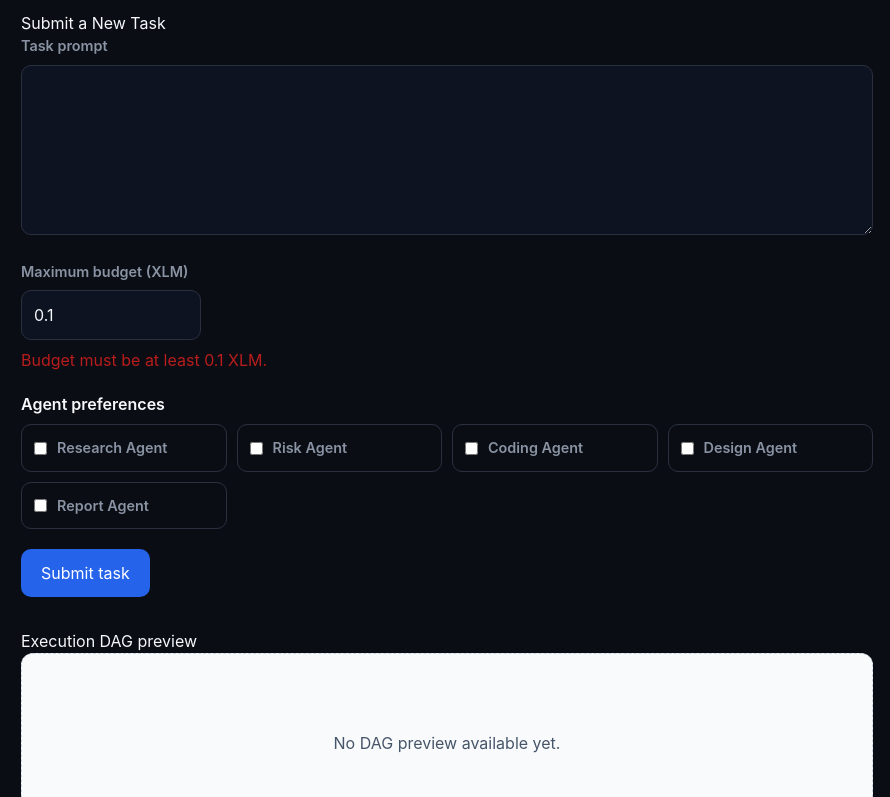
TaskSubmissionForm › shows a validation error when maxBudgetXLM is below 0.1
Type "Build a report" into the text box labelled "Task prompt" at [447, 150], box x1=21 y1=65 x2=873 y2=235
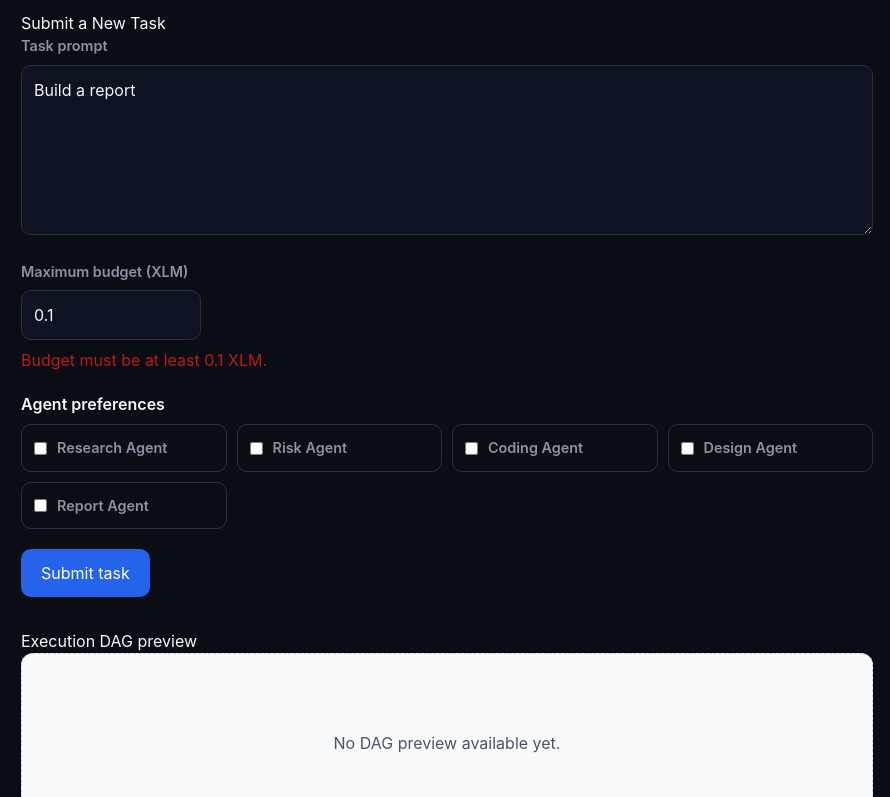
Replace the text in the number field labelled "Maximum budget (XLM)" with "0.01" at [111, 315], box x1=21 y1=290 x2=201 y2=340
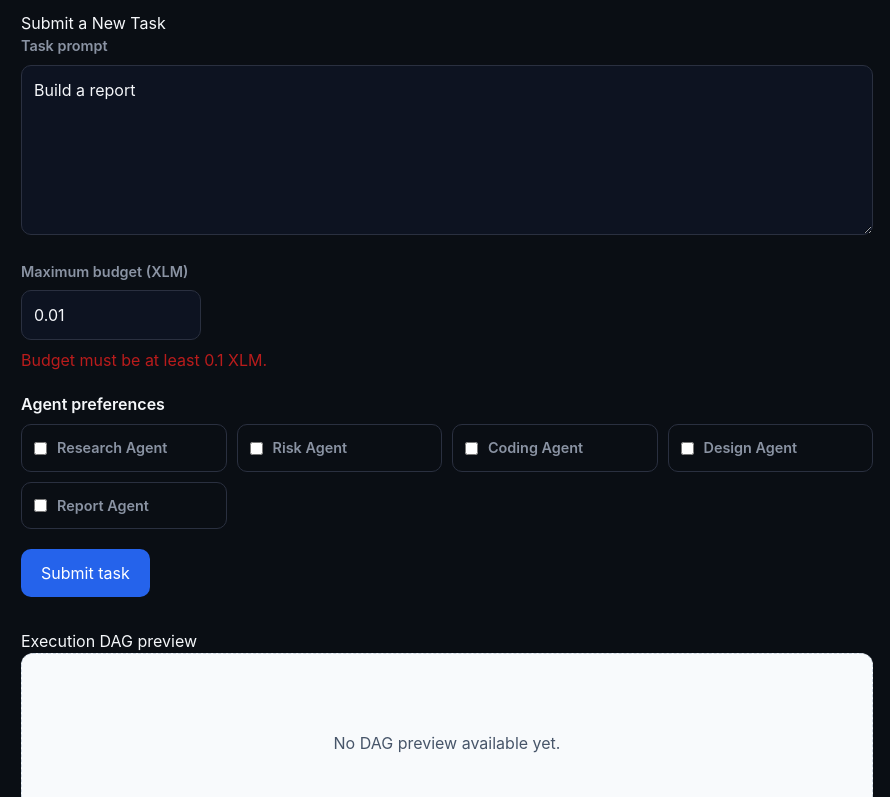
Click the checkbox labelled "Research Agent" at [40, 448], box x1=34 y1=442 x2=47 y2=454
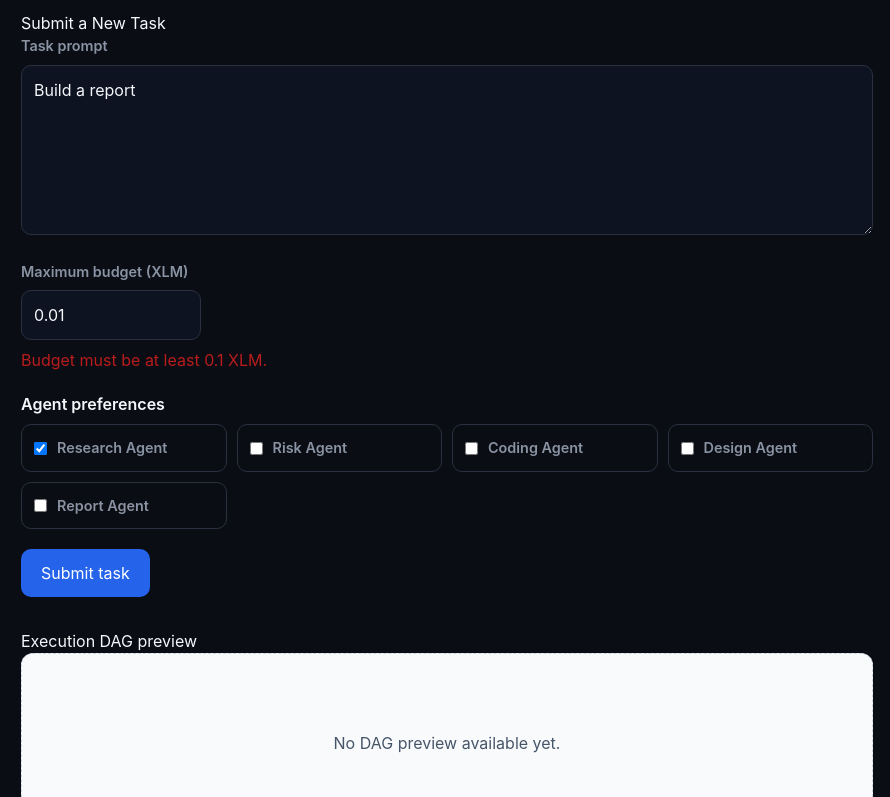
Click the button "Submit task" at [85, 573], box x1=21 y1=549 x2=150 y2=597
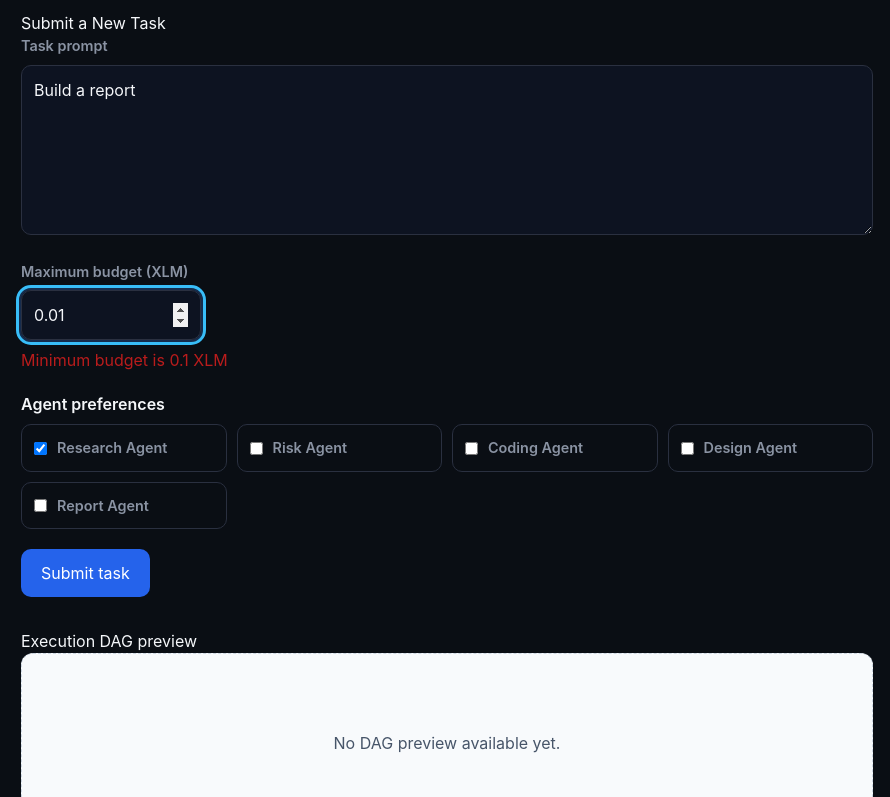
Check: the text "Minimum budget is 0.1 XLM" is shown, box x1=21 y1=350 x2=228 y2=370
